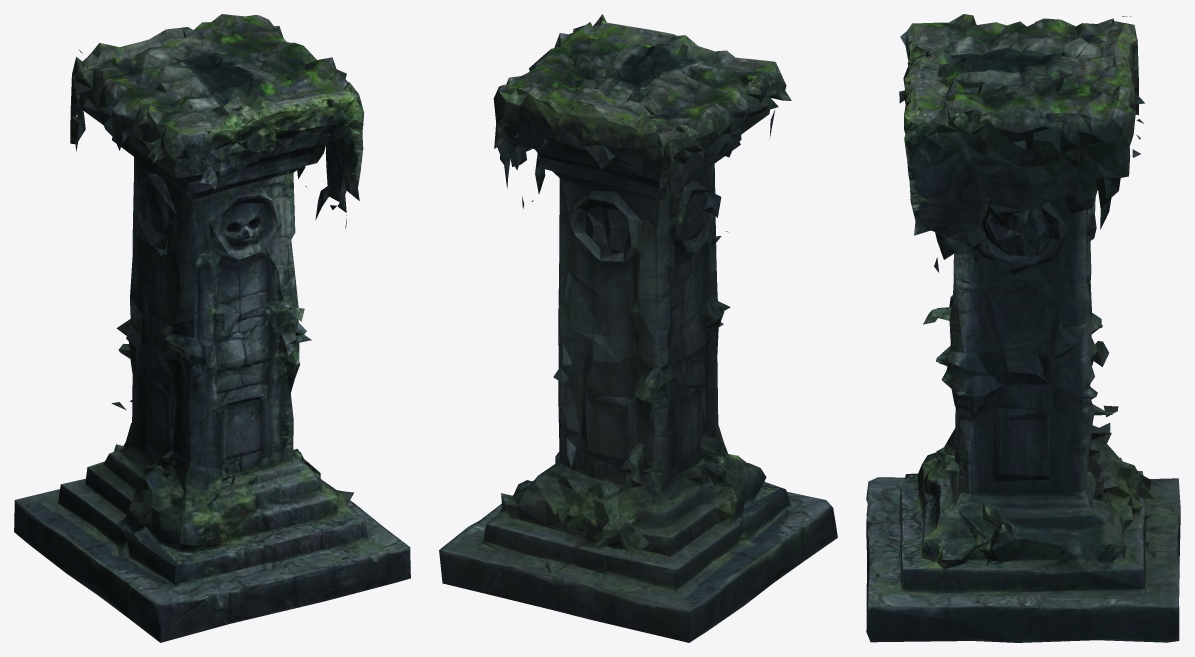
The model's file is pillar_mossy_a_lod0.glb.
3 renders of one model, left to right at view 1: azimuth 30°, elevation 25°; view 2: azimuth 150°, elevation 25°; view 3: azimuth 270°, elevation 25°, orthographic. The views are drawn at different scales.
Visible parts, largest first — view 1: pillar_mossy_a_lod0; view 2: pillar_mossy_a_lod0; view 3: pillar_mossy_a_lod0.
Boxes of the visible parts, bbox=[...] form: pillar_mossy_a_lod0: bbox=[14, 14, 410, 642]; pillar_mossy_a_lod0: bbox=[439, 14, 837, 642]; pillar_mossy_a_lod0: bbox=[866, 14, 1180, 642].
Size of the model in its own units: 1.88 by 3.5 by 1.9.
Materials: 1 (1 with a texture image).
